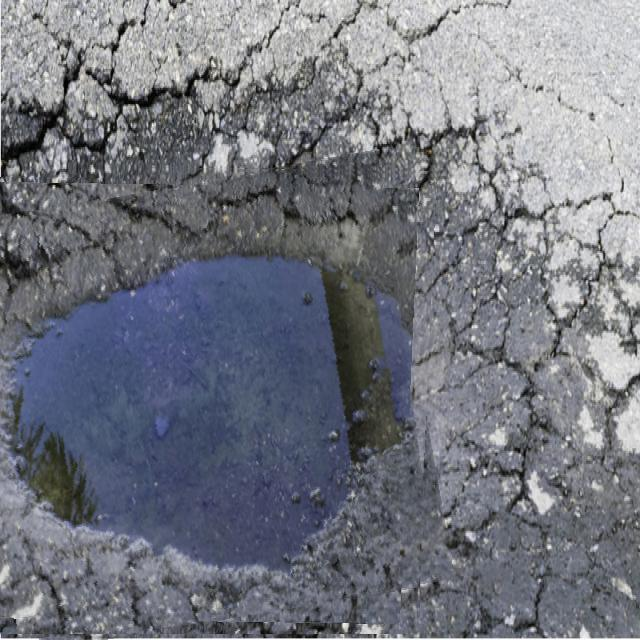Pothole: (0, 165, 437, 634)
